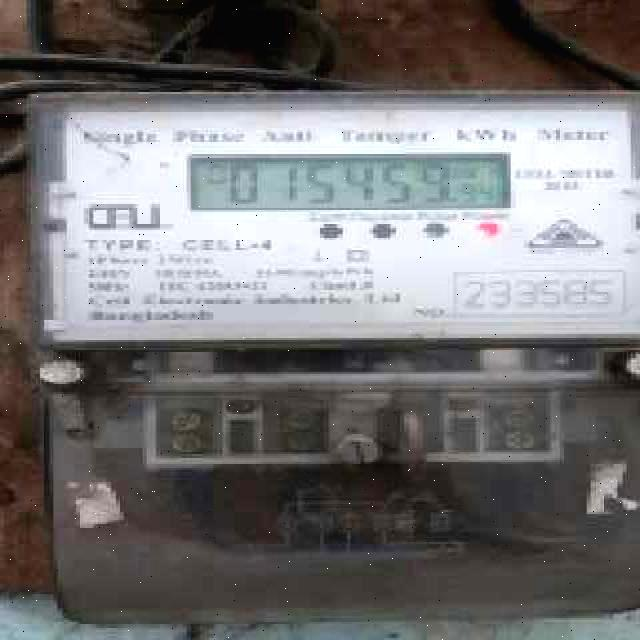LCD: (184, 153, 522, 211)
